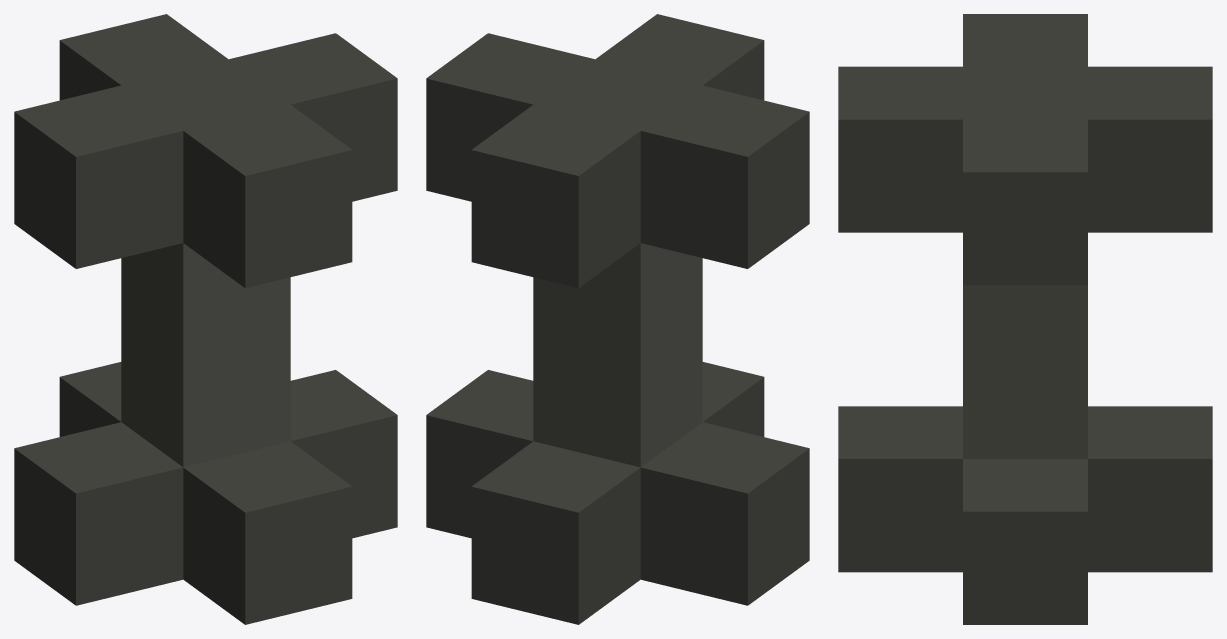
File: church-36-candleholdersmall.obj
3 renders of one model, left to right at view 1: azimuth 30°, elevation 25°; view 2: azimuth 150°, elevation 25°; view 3: azimuth 270°, elevation 25°, orthographic.
Parts seen in each view (by area): view 1: candleholdersmall; view 2: candleholdersmall; view 3: candleholdersmall.
Boxes of the visible parts, x1=… form: candleholdersmall: x1=14, y1=14, x2=397, y2=624; candleholdersmall: x1=426, y1=14, x2=809, y2=624; candleholdersmall: x1=838, y1=14, x2=1212, y2=624.
Size of the model in its own units: 0.3 by 0.4 by 0.3.
Materials: 1 (1 with a texture image).
